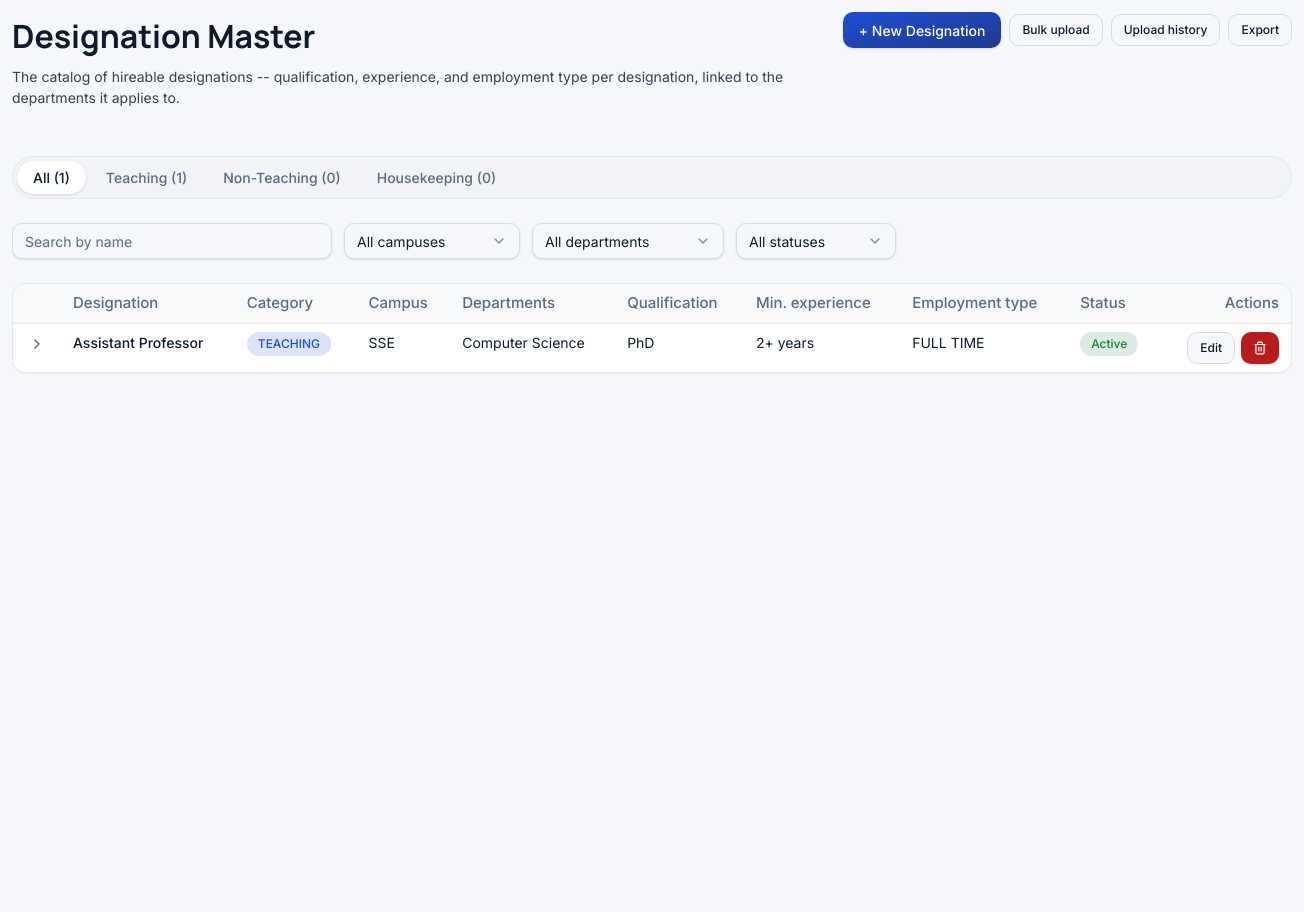
Test case: DesignationsPage › expanded detail row › shows eligibility rules matched on category and campus, and says so when there are none
Expected: the text "Assistant Professor" is shown, [61, 323, 235, 372]
Click the button named "Expand details for Assistant Professor": (37, 344) [25, 332, 49, 356]
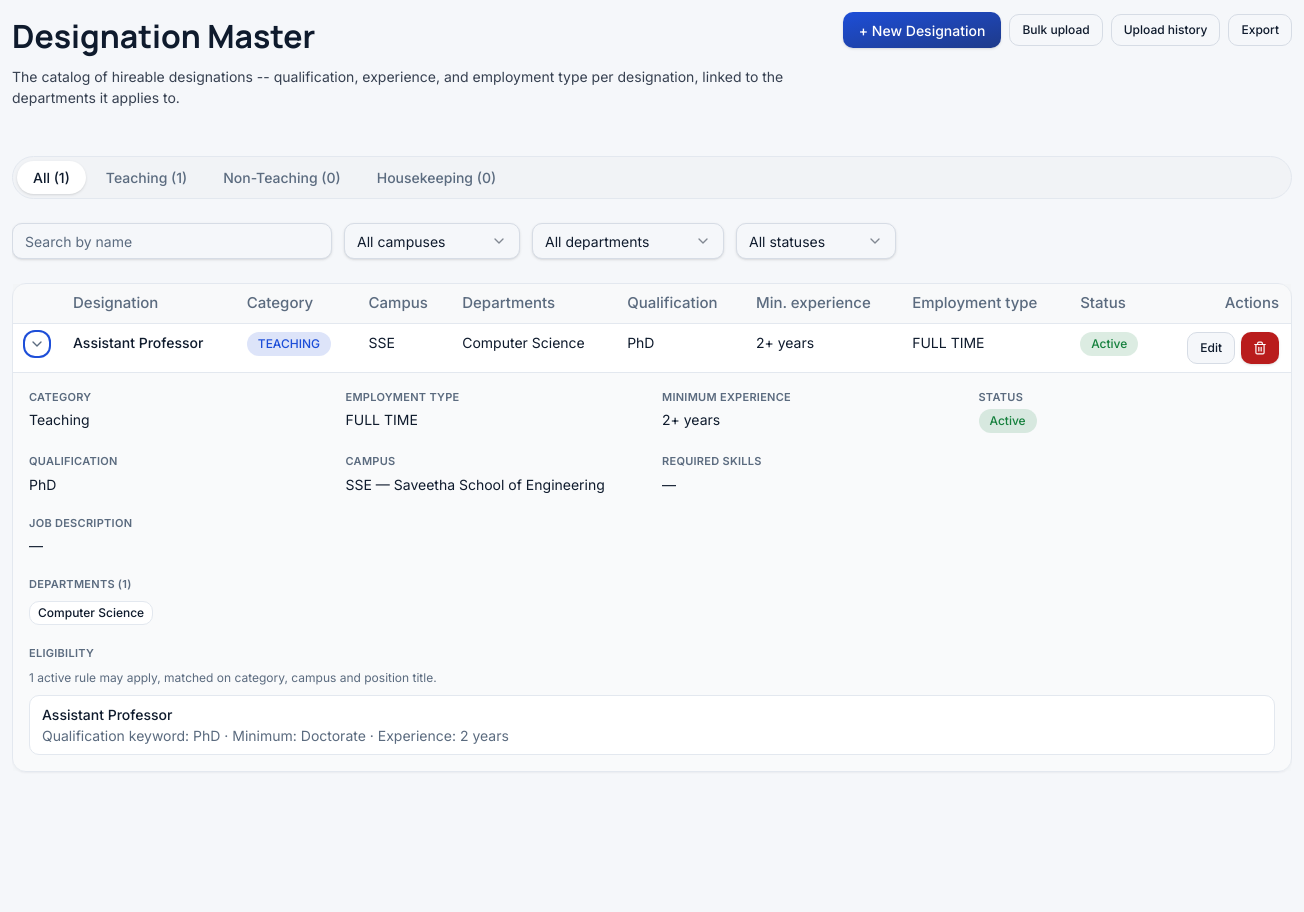
Expected: the text "1 active rule may apply" is shown, [29, 670, 437, 685]
Expected: the text "Qualification keyword: PhD" is shown, [42, 727, 509, 744]
